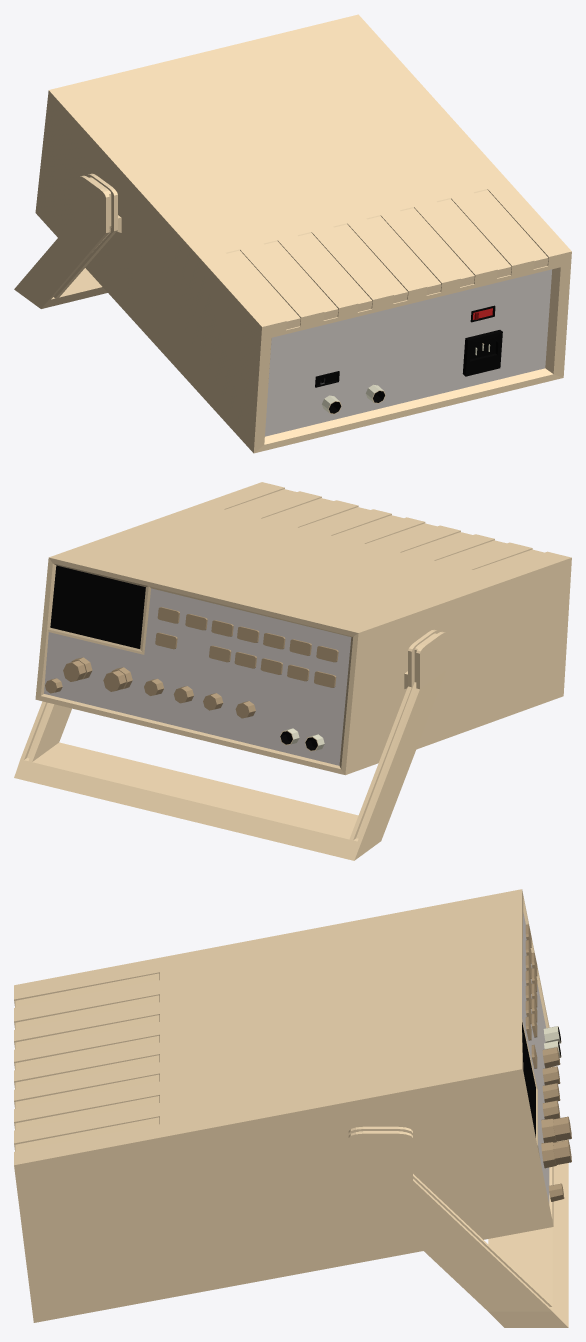
Rendered from frekuensi_generator.gltf.
The picture shows the model from 3 angles, top to bottom: view 1: azimuth 30°, elevation 25°; view 2: azimuth 150°, elevation 25°; view 3: azimuth 270°, elevation 25°; orthographic projection. The views are drawn at different scales.
Parts seen in each view (by area): view 1: Cube.001; view 2: Cube.001; view 3: Cube.001.
Boxes of the visible parts, x1,y1,x2,y2 form: Cube.001: (14, 14, 571, 453); Cube.001: (14, 482, 571, 860); Cube.001: (14, 889, 571, 1327).
Size of the model in its own units: 0.5231 by 0.3127 by 0.6227.
